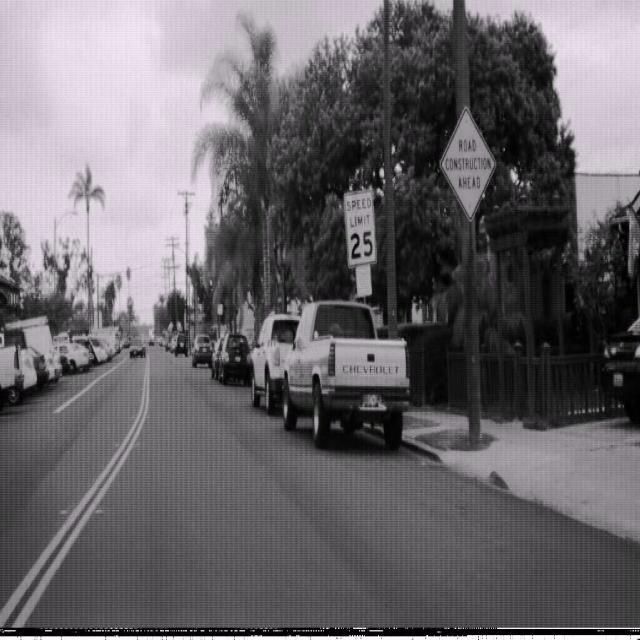speedLimit25: (343, 188, 378, 268)
